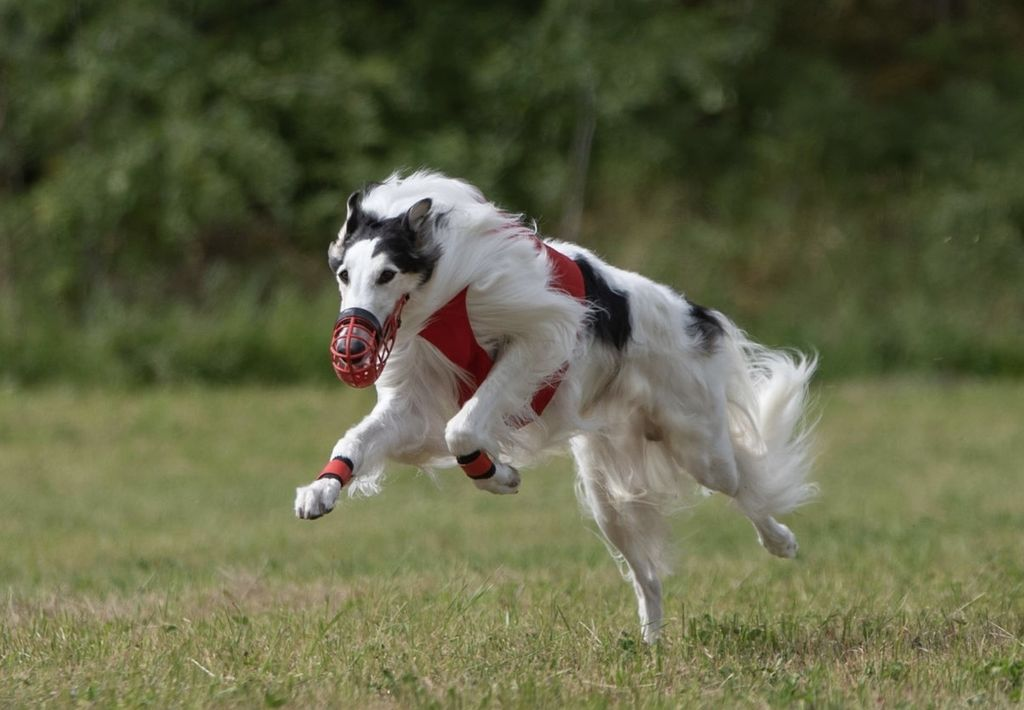borzoi: (288, 170, 814, 651)
